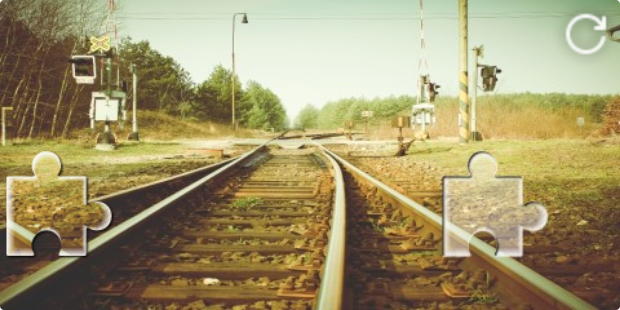target: (444, 152, 548, 256)
